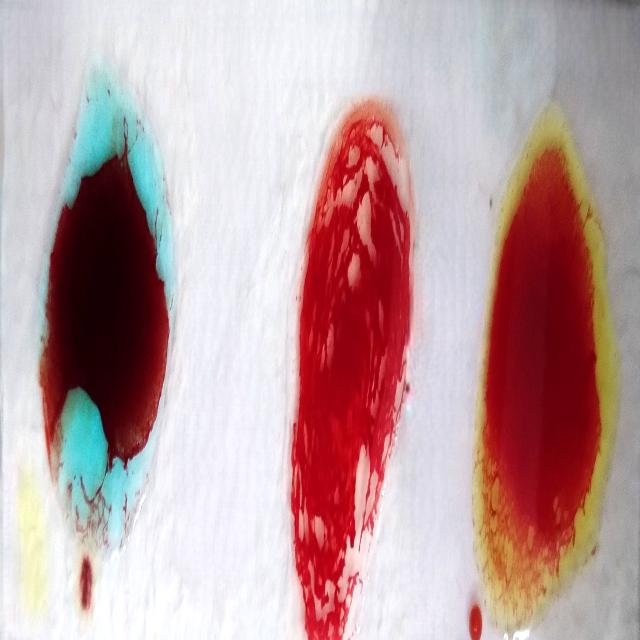A: (40, 82, 172, 557)
B: (483, 134, 614, 624)
D: (296, 100, 402, 640)
